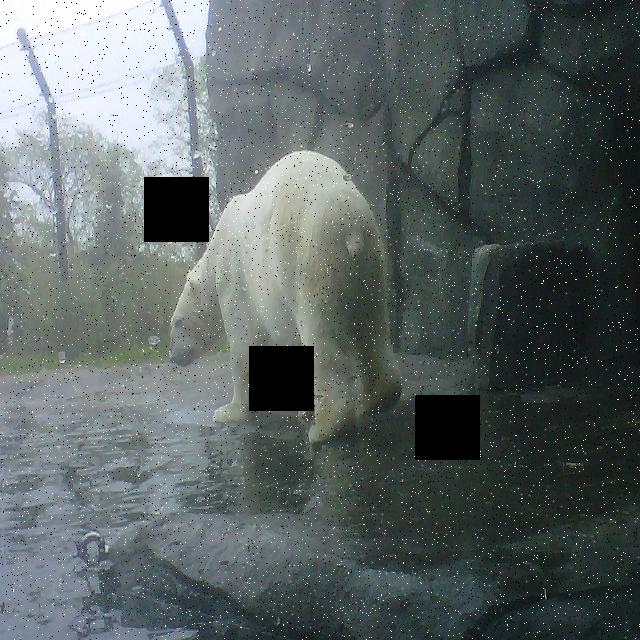Bear: (158, 136, 422, 448)
